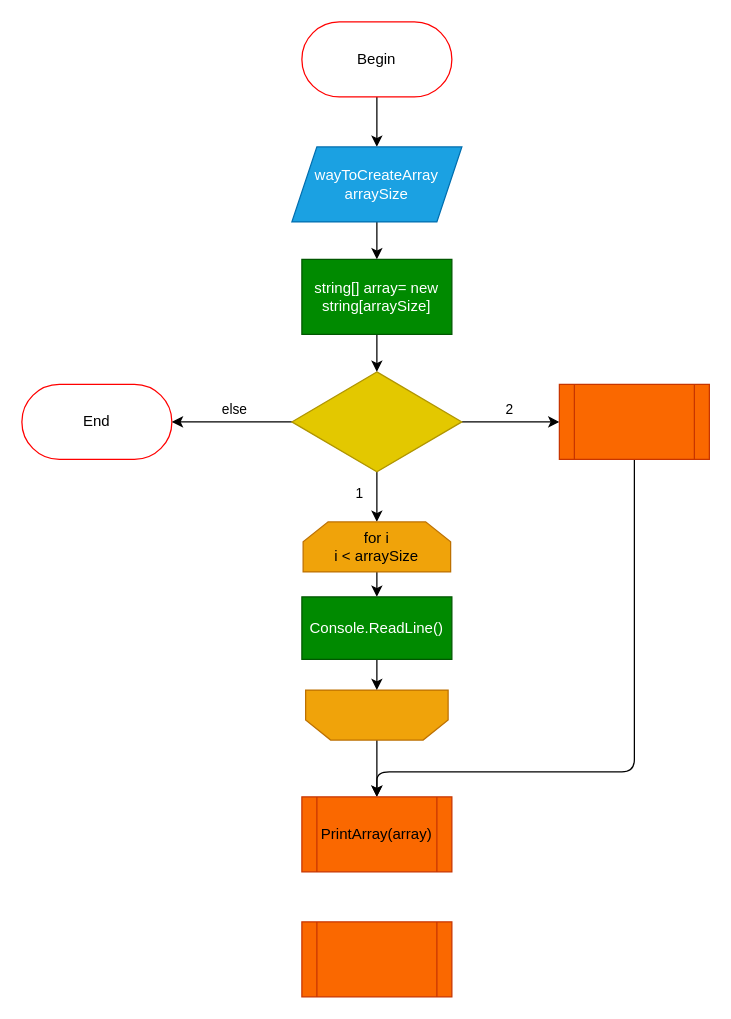
This 731x1019 diagram has some shape labels left out. Here are the shapes that lost their labels. From the top down, the box of each, then its label:
(291, 371, 462, 472): ?wayToCreateArray?
(558, 383, 709, 459): CreateArray (ref array);
(304, 689, 448, 740): i++ for i
